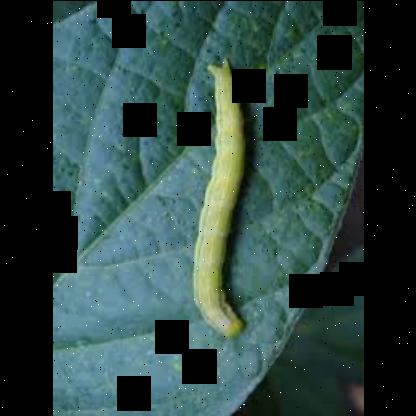oruga: (185, 54, 247, 350)
